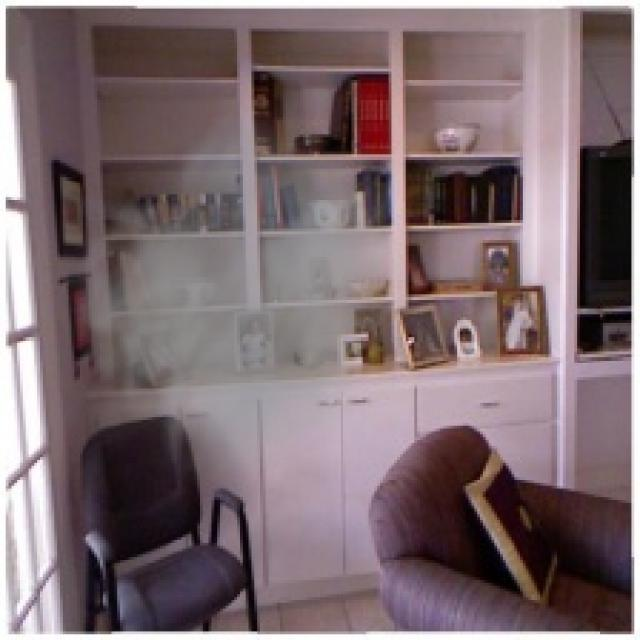Smoke: (37, 94, 389, 503)
